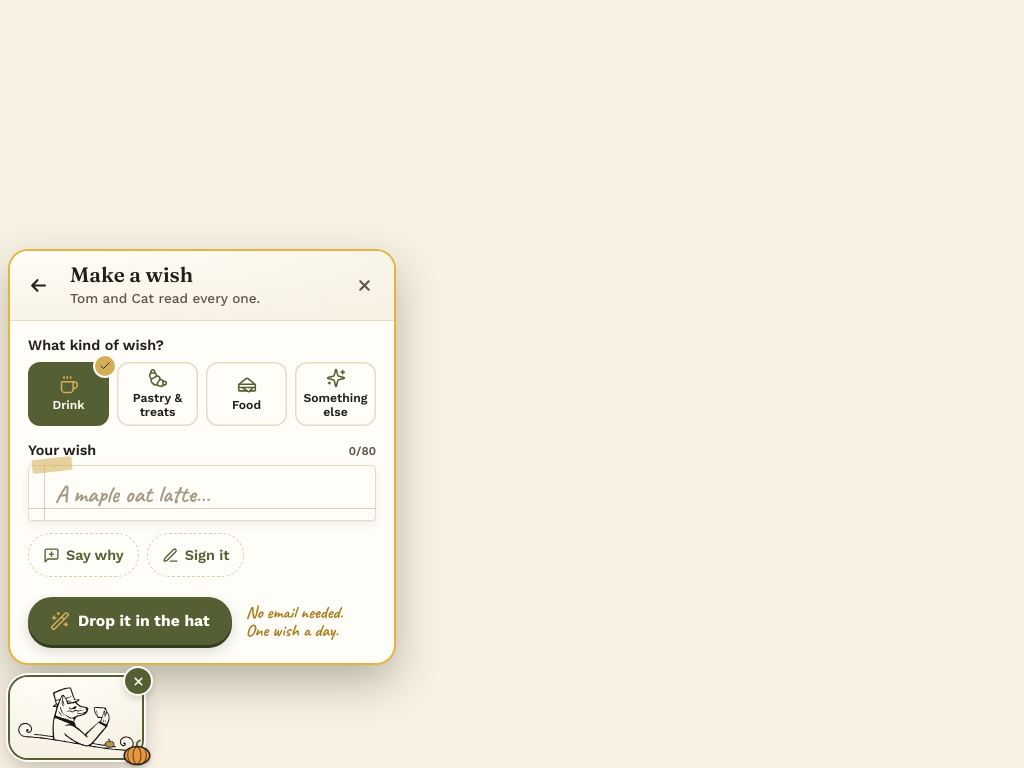
Test case: the fox’s card while the wish is open › owns the card: its own title, a back button, no tiles, chips or footer
Expected: the heading "Make a wish" is shown, [70, 262, 193, 287]
Expected: the button "Hide the fox" is not shown
Click the button "Sign it".
click(196, 556)  # box [147, 534, 244, 578]
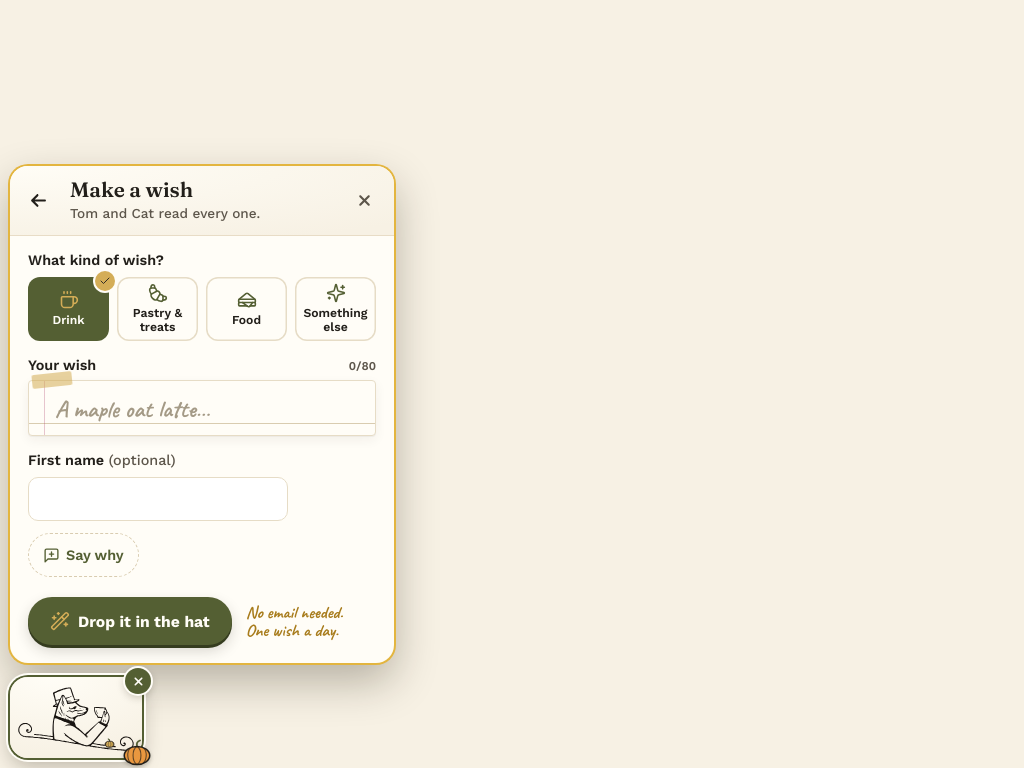
Expected: the field labelled "First name (optional)" is shown, [28, 478, 288, 522]
# one clear way back, and it says where it goes
Click the button named "Back to Ask the fox".
click(38, 200)  # box [16, 178, 60, 222]
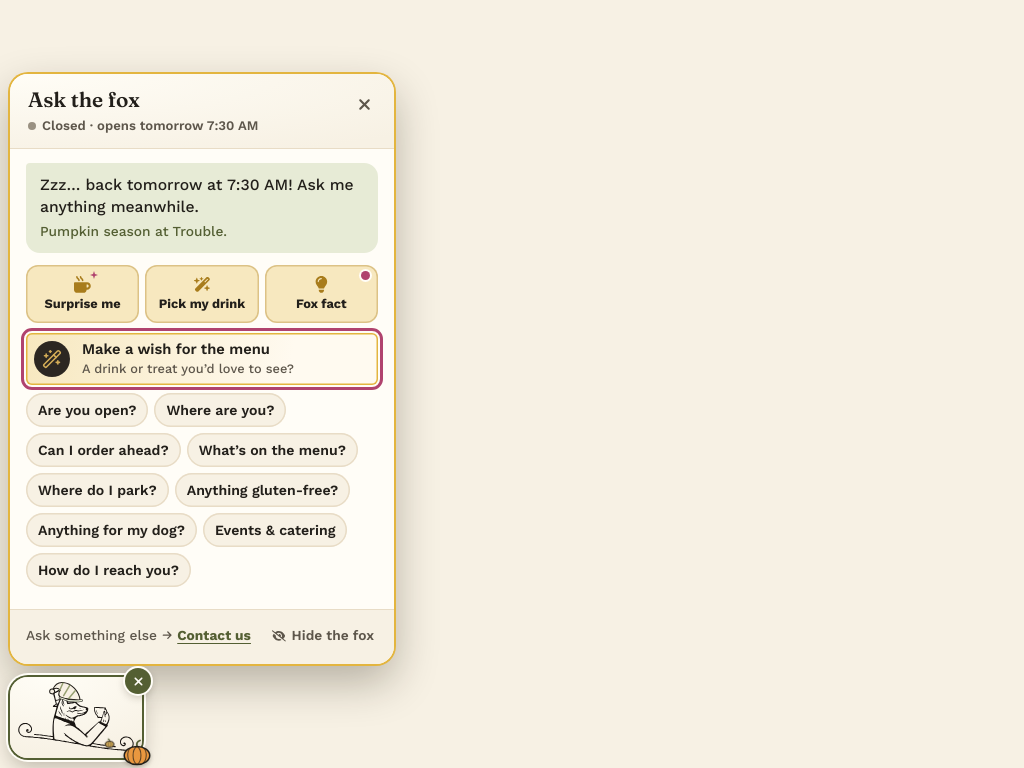
Expected: the heading "Ask the fox" is shown, [28, 87, 140, 112]
Expected: the element with test id "fox-wish" is gone
Expected: the footer with class "fox-help__foot" is shown, [10, 608, 394, 664]
